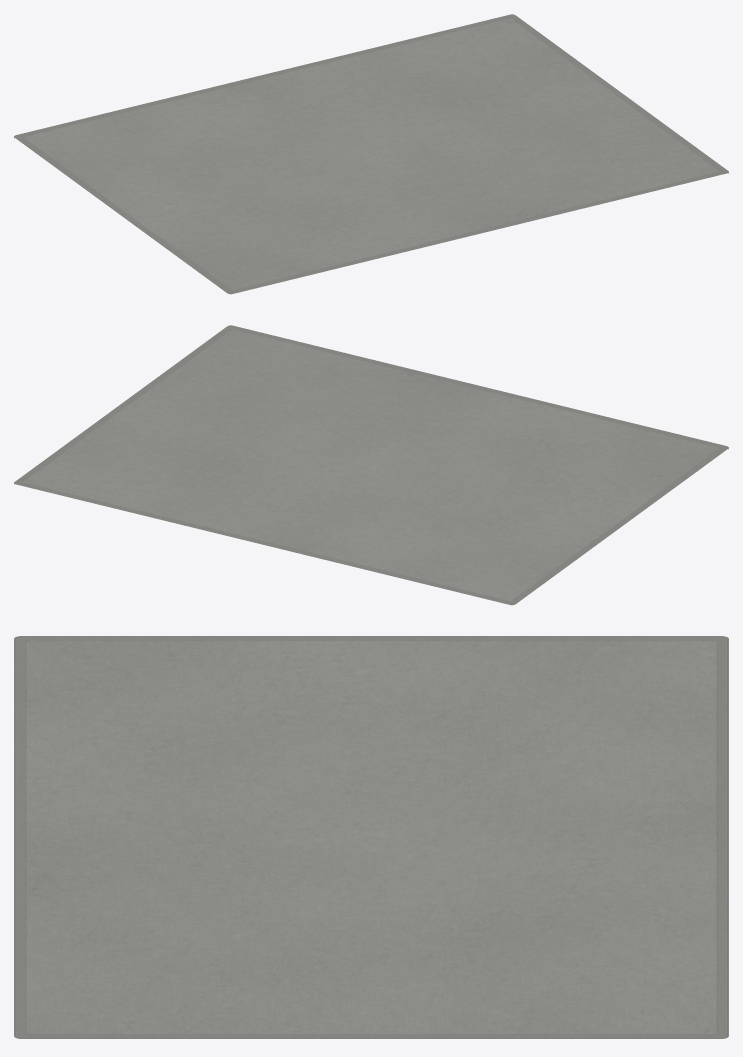
File: gray_M_r90.glb
The picture shows the model from 3 angles, top to bottom: view 1: azimuth 30°, elevation 25°; view 2: azimuth 150°, elevation 25°; view 3: azimuth 270°, elevation 25°; orthographic projection. The views are drawn at different scales.
Visible parts, largest first — view 1: reliv_gray_M_r90; view 2: reliv_gray_M_r90; view 3: reliv_gray_M_r90.
Boxes of the visible parts, x1,y1,x2,y2 form: reliv_gray_M_r90: [14, 14, 728, 294]; reliv_gray_M_r90: [14, 325, 728, 605]; reliv_gray_M_r90: [14, 636, 728, 1038].
Bounding box in the file's own units: 2 × 0.009 × 1.5.
Materials: 2 (1 with a texture image).
